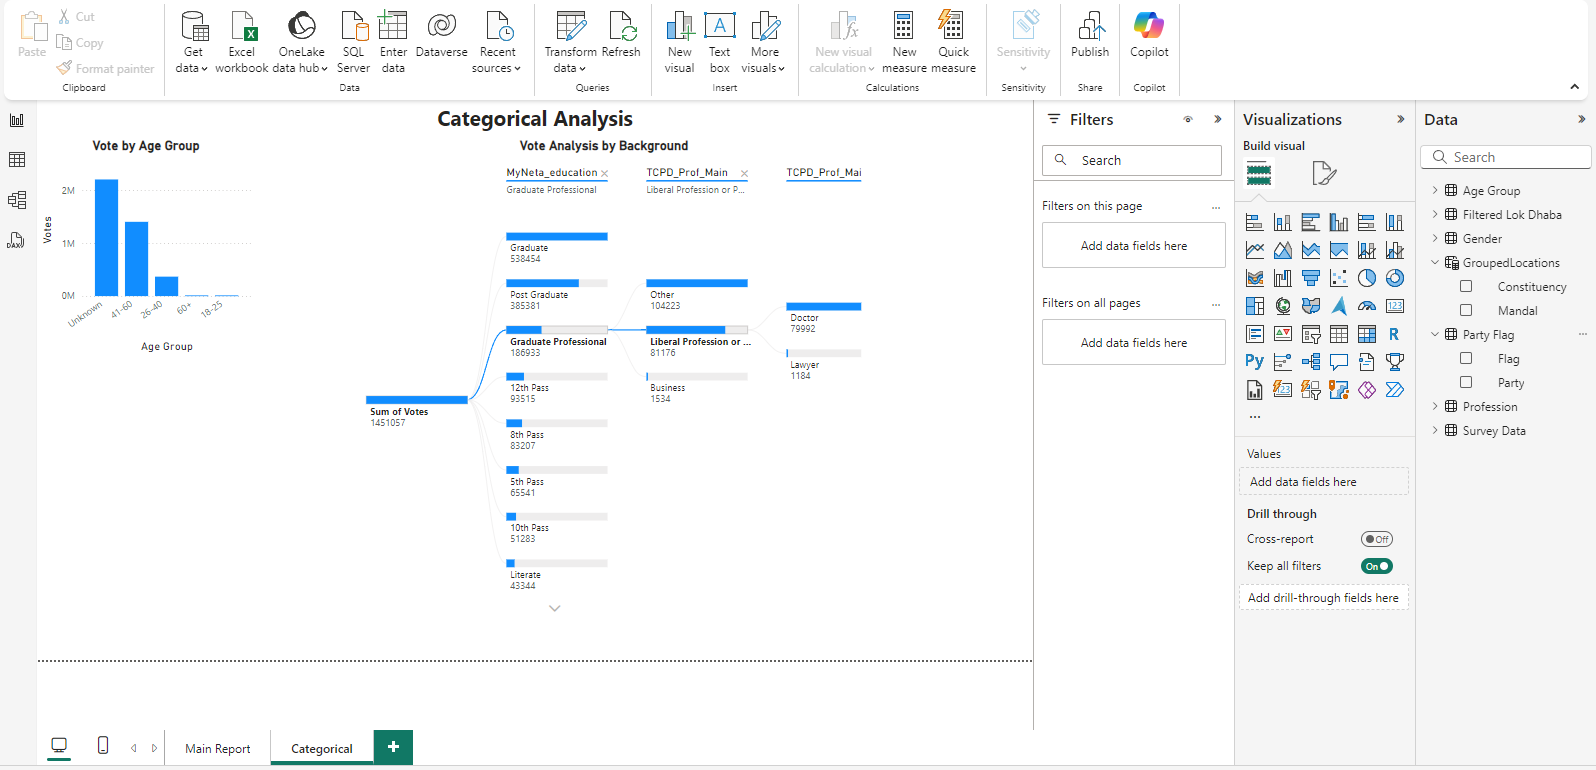

The dashboard page shown, as its layout file describes it:
{"tool":"powerbi","page":{"name":"Categorical","canvas":[1280,720],"ordinal":1},"visuals":[{"type":"columnChart","title":"Vote by Age Group","fields":{"Category":["Filtered Lok Dhaba.Age Group"],"Y":["Sum(Filtered Lok Dhaba.Votes)"]},"box":[0,48.8,280.2,280.2],"z":0},{"type":"decompositionTreeVisual","title":"Vote Analysis by Background","fields":{"Analyze":["Sum(Filtered Lok Dhaba.Votes)"],"ExplainBy":["Filtered Lok Dhaba.MyNeta_education","Filtered Lok Dhaba.TCPD_Prof_Main","Filtered Lok Dhaba.TCPD_Prof_Main_Desc"]},"box":[393.3,48.8,670.8,632.3],"z":1},{"type":"textbox","box":[431.8,0,416.4,48.8],"z":2}]}

Visuals, with their boxes on the page's 1280x720 design canvas (x1, y1, x2, y2). These are canvas units, not pixel positions in the 1596x770 screenshot, which may show the page scaled, cropped or inside an application window:
"Vote by Age Group" columnChart: <region>0, 49, 280, 329</region>
"Vote Analysis by Background" decompositionTreeVisual: <region>393, 49, 1064, 681</region>
textbox: <region>432, 0, 848, 49</region>
